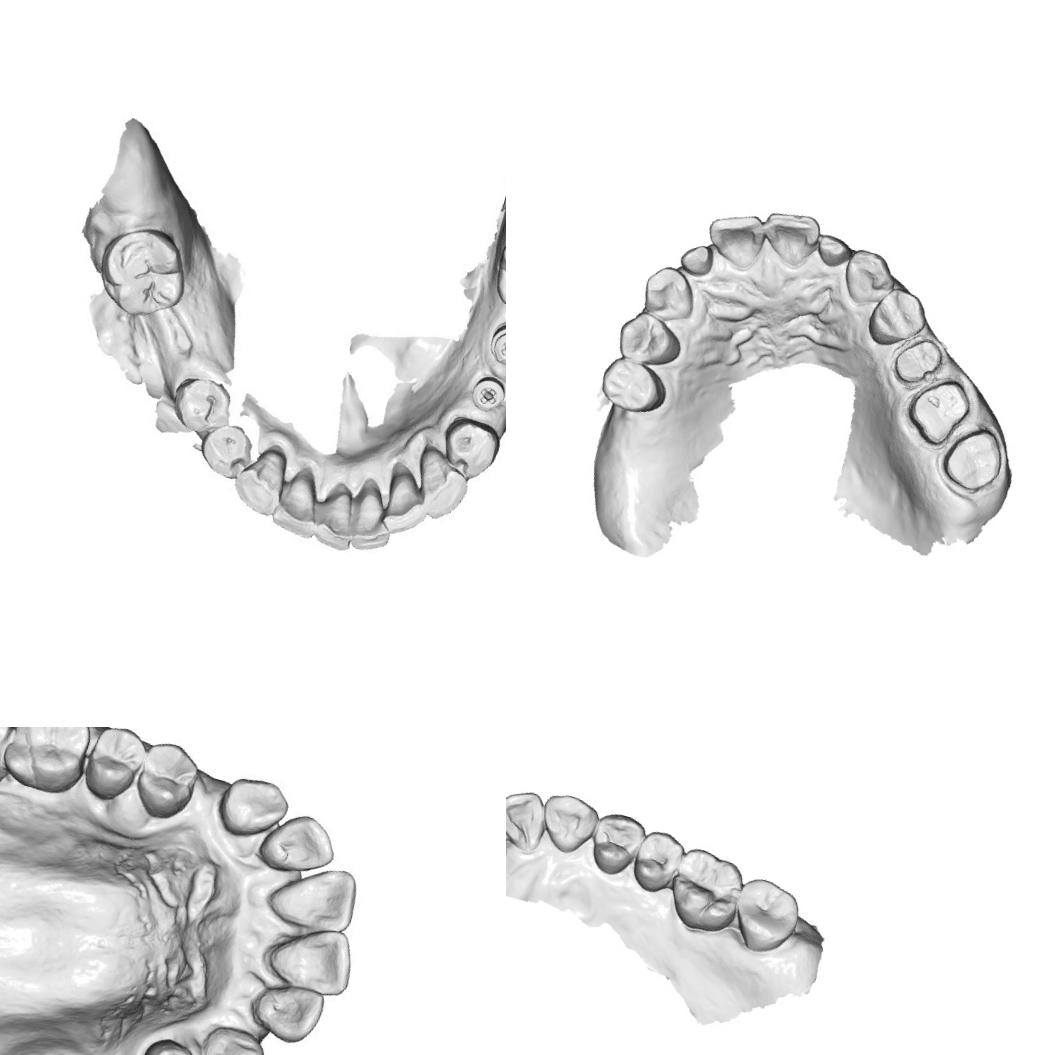canine: (210, 764, 294, 848), (401, 438, 477, 526), (225, 440, 296, 520), (534, 787, 604, 859), (636, 258, 704, 330), (836, 244, 902, 311), (193, 1018, 269, 1055)
crown: (898, 369, 977, 454), (936, 414, 1011, 498), (887, 329, 948, 394)
implant_plus: (462, 367, 506, 420), (485, 315, 506, 373)
incisor: (262, 850, 368, 939), (261, 913, 359, 1003), (252, 802, 346, 885), (240, 972, 333, 1050), (698, 204, 770, 274), (266, 460, 328, 540), (344, 478, 402, 558), (755, 200, 822, 268), (378, 467, 434, 538), (309, 480, 362, 552), (506, 781, 554, 855), (807, 229, 854, 273), (675, 239, 716, 279)
molar: (88, 216, 198, 326), (660, 840, 754, 940), (0, 727, 98, 801), (725, 872, 806, 961), (484, 220, 506, 324)
premolar: (123, 733, 206, 826), (74, 727, 152, 808), (594, 350, 673, 420), (611, 305, 689, 372), (167, 370, 238, 443), (863, 279, 932, 352), (582, 806, 648, 882), (439, 413, 506, 484), (625, 824, 688, 899), (198, 421, 260, 482), (125, 1029, 212, 1055)
